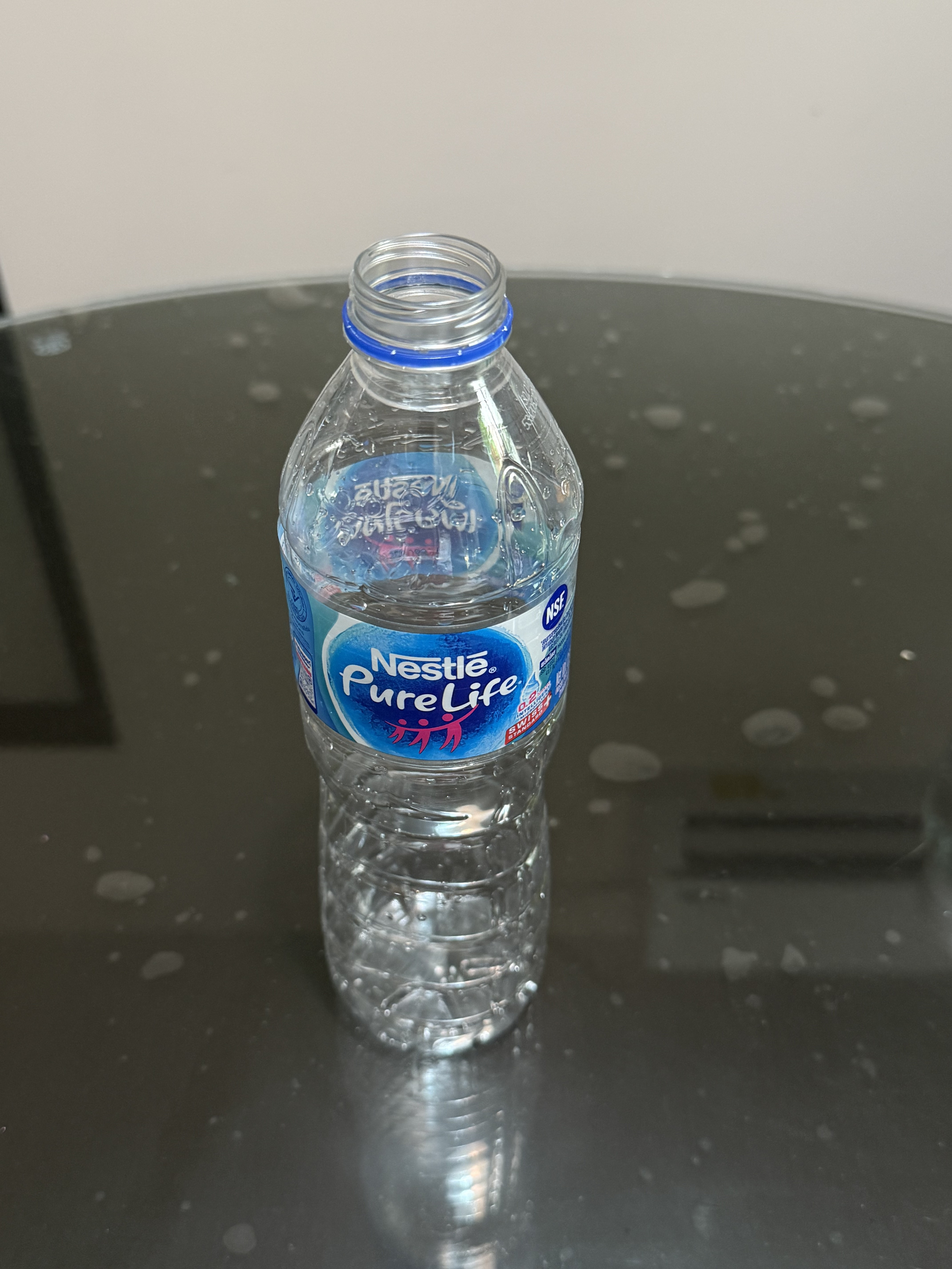no_cap: (336, 228, 519, 372)
